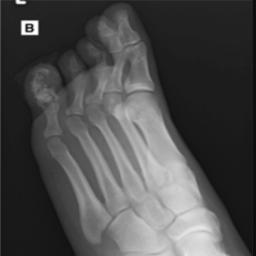cancer: (25, 63, 62, 116)
